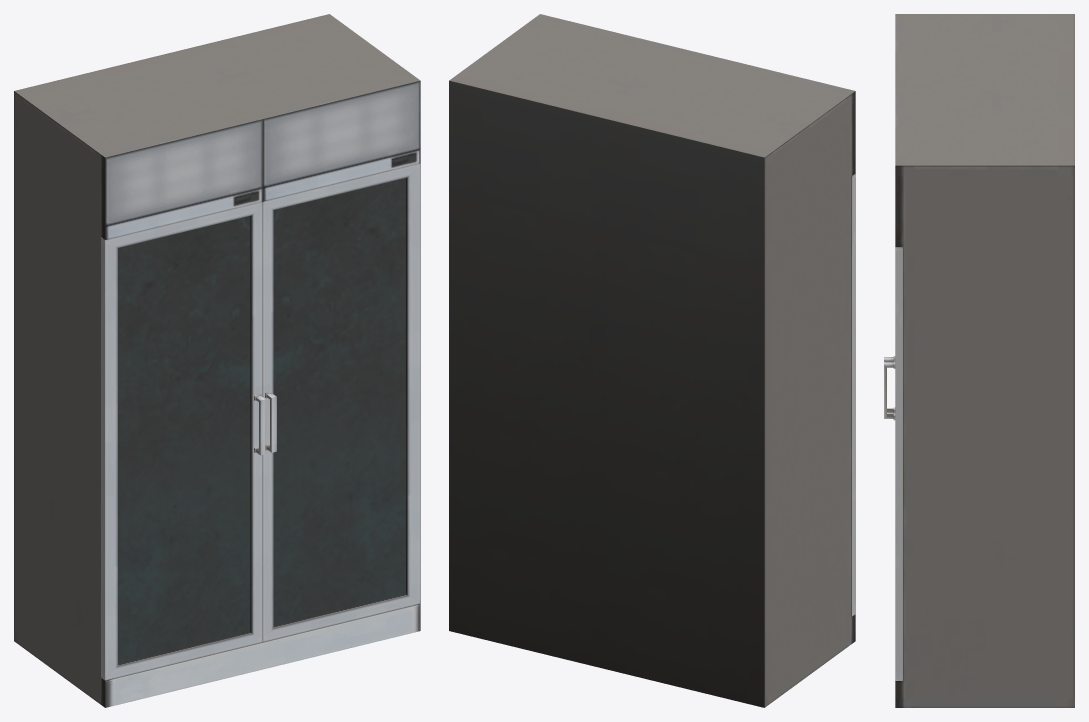
The model's file is FridgeDual.fbx.
The picture shows the model from 3 angles, left to right: view 1: azimuth 30°, elevation 25°; view 2: azimuth 150°, elevation 25°; view 3: azimuth 270°, elevation 25°; orthographic projection.
Visible parts, largest first — view 1: FridgeDual, Fridge_Door_L, Fridge_Door_R; view 2: FridgeDual, Fridge_Door_L; view 3: FridgeDual, Fridge_Door_R.
Boxes of the visible parts, bbox=[...] form: FridgeDual: bbox=[14, 14, 420, 707]; Fridge_Door_L: bbox=[101, 202, 265, 680]; Fridge_Door_R: bbox=[262, 163, 420, 641]; FridgeDual: bbox=[449, 14, 855, 707]; Fridge_Door_L: bbox=[851, 173, 855, 616]; FridgeDual: bbox=[895, 14, 1074, 707]; Fridge_Door_R: bbox=[884, 247, 902, 680].
Bounding box in the file's own units: 120 × 200 × 63.83.
Materials: 2 (2 with a texture image).
